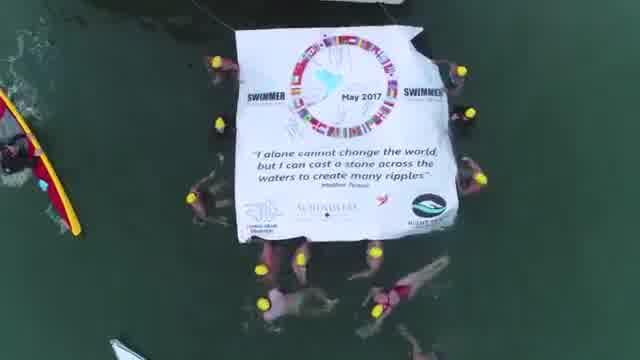swimmer: (366, 270, 432, 327), (256, 285, 330, 328), (182, 170, 230, 234), (431, 56, 471, 94), (202, 56, 242, 89), (455, 156, 487, 195), (255, 241, 283, 280), (292, 241, 314, 282), (362, 244, 388, 274)
